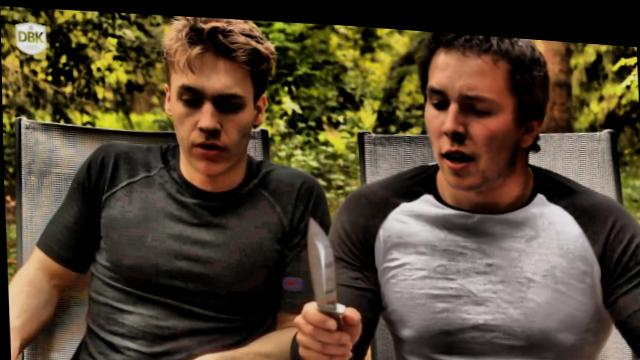knife: (283, 203, 367, 355)
